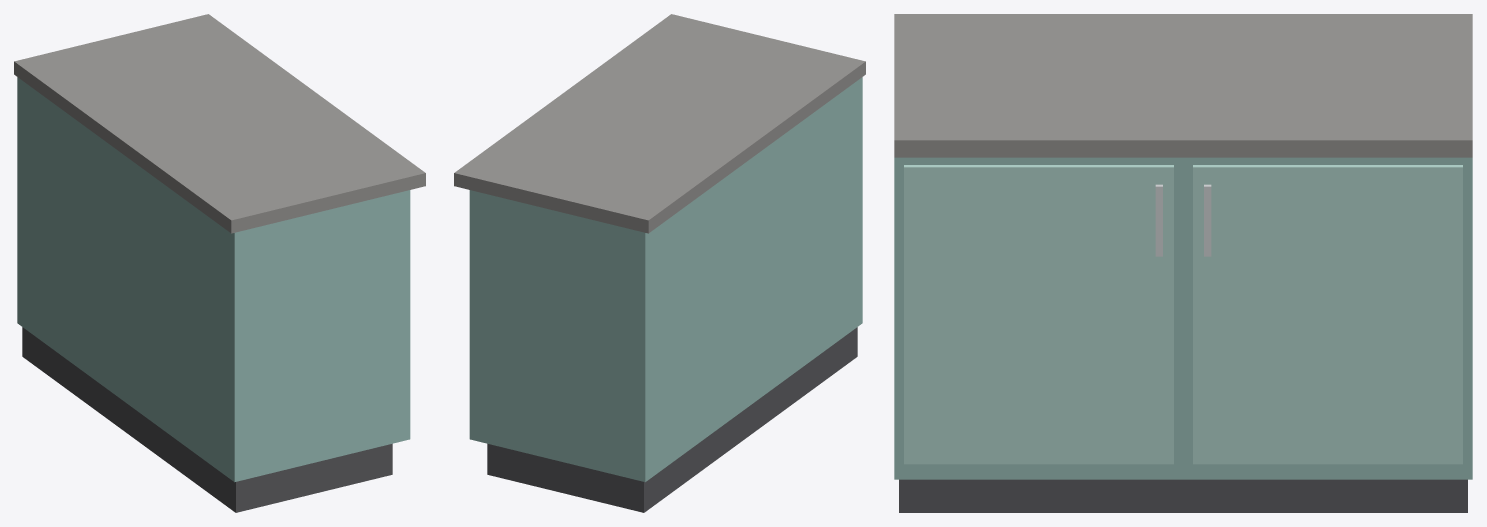
File: counter_unit.glb
3 views of the same model, side by side, from view 1: azimuth 30°, elevation 25°; view 2: azimuth 150°, elevation 25°; view 3: azimuth 270°, elevation 25° (orthographic). The views are drawn at different scales.
Size of the model in its own units: 0.62 by 0.9 by 1.2.
